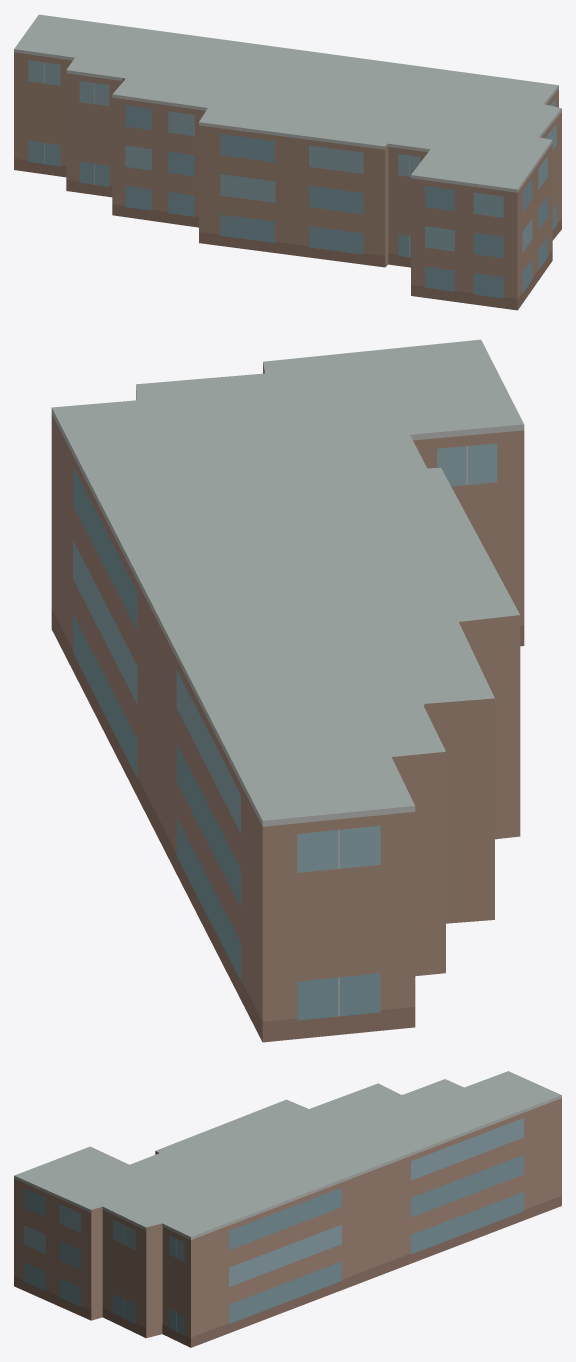
Rendered from survey-upis-32846383.glb.
The picture shows the model from 3 angles, top to bottom: view 1: azimuth 30°, elevation 25°; view 2: azimuth 150°, elevation 25°; view 3: azimuth 270°, elevation 25°; orthographic projection. The views are drawn at different scales.
Visible parts, largest first — view 1: survey-upis-32846383.tmp; view 2: survey-upis-32846383.tmp; view 3: survey-upis-32846383.tmp.
Part boxes in pixels (<box>): survey-upis-32846383.tmp: <box>14,14,561,310</box>; survey-upis-32846383.tmp: <box>51,339,524,1042</box>; survey-upis-32846383.tmp: <box>14,1071,561,1347</box>.
Size of the model in its own units: 29.45 by 9.15 by 41.04.
